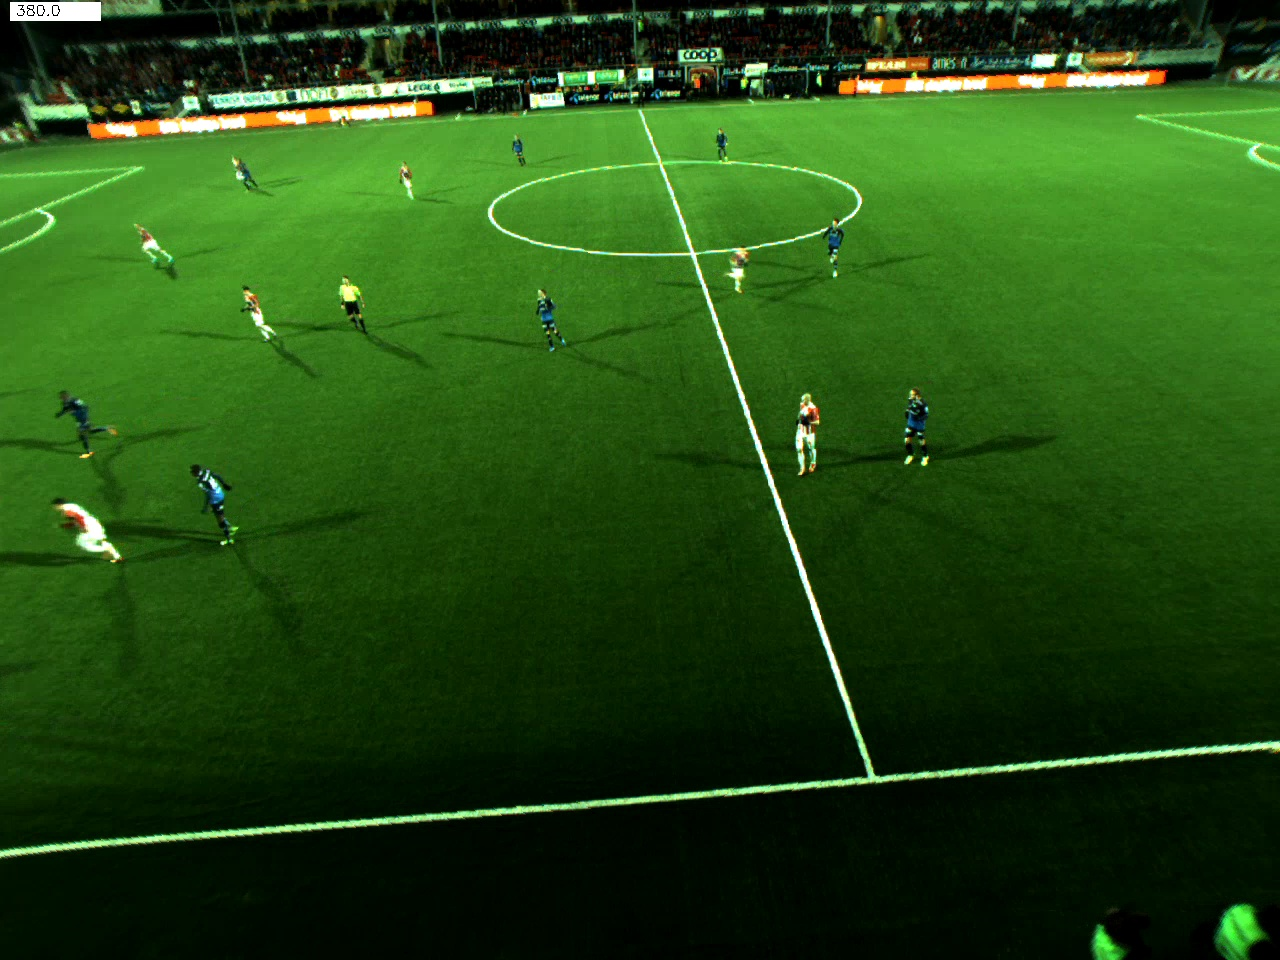blue: (181, 464, 252, 544), (894, 387, 939, 487), (46, 391, 116, 455), (530, 284, 566, 362), (819, 217, 848, 274), (239, 157, 273, 195), (706, 125, 731, 169), (503, 137, 533, 170)
red: (56, 499, 127, 585), (791, 387, 824, 495), (237, 288, 283, 348), (130, 225, 171, 278), (727, 239, 758, 287), (389, 159, 417, 207), (223, 149, 238, 188)
yellow: (328, 280, 380, 341)
